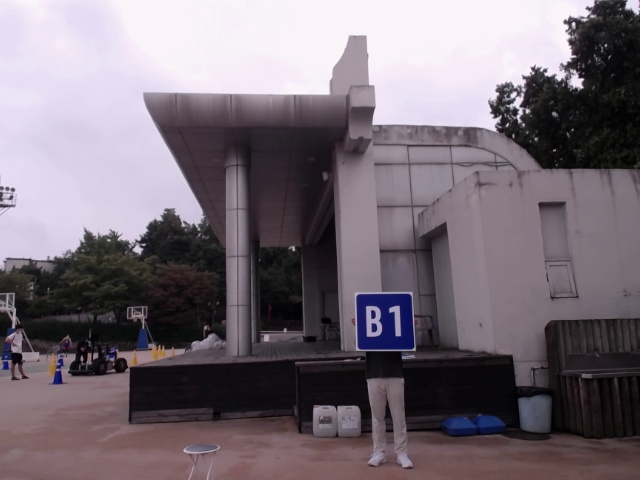delivery_b1: (355, 292, 416, 351)
